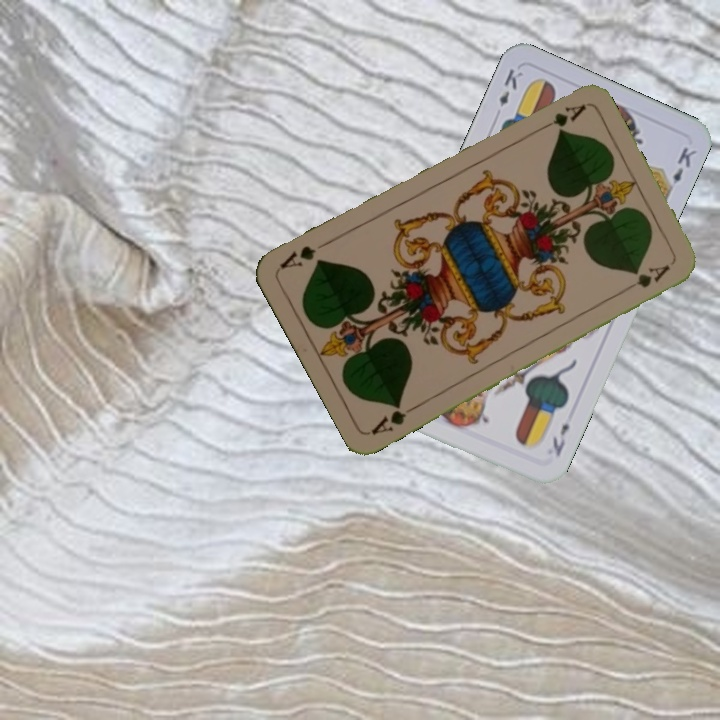EK: (495, 64, 526, 109), (548, 419, 572, 459)
GA: (367, 399, 421, 438), (532, 100, 588, 135)
